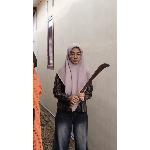Golok: (62, 60, 114, 106)
